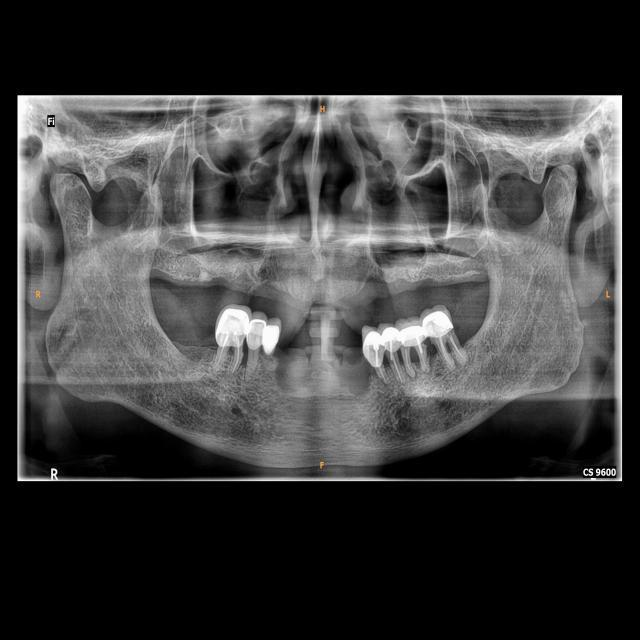kanal-tedavisi: (437, 334, 464, 365), (218, 341, 244, 371), (404, 344, 428, 370), (388, 350, 403, 384), (376, 360, 388, 386)
kaplama: (215, 306, 248, 344), (362, 328, 384, 365), (394, 321, 425, 347), (420, 313, 454, 336), (246, 314, 265, 350), (262, 323, 280, 353), (383, 326, 400, 353)
